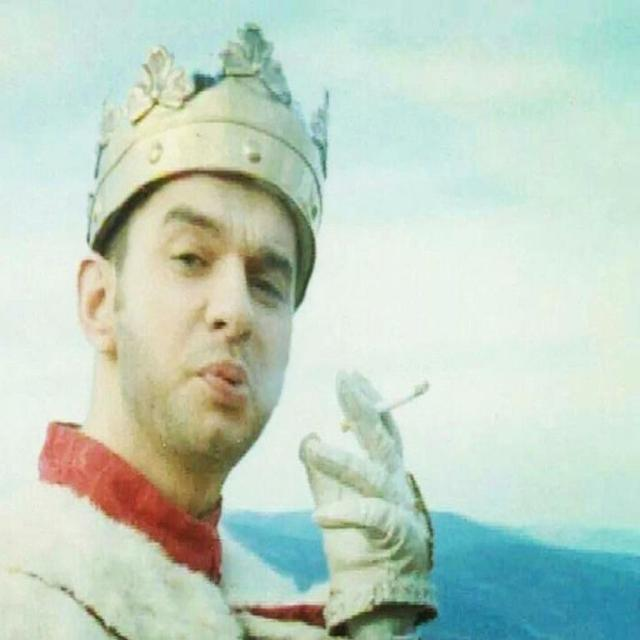smoking: (74, 38, 438, 588)
